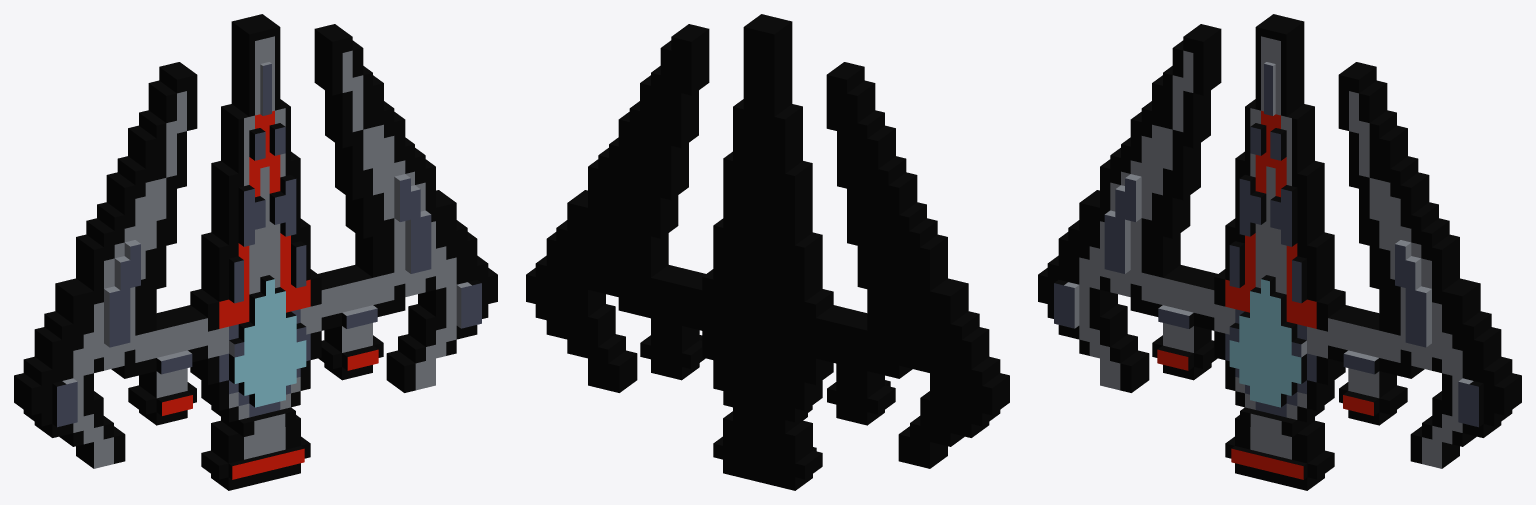
The model's file is NavePlayer1Skin1.fbx.
3 views of the same model, side by side, from view 1: azimuth 30°, elevation 25°; view 2: azimuth 150°, elevation 25°; view 3: azimuth 330°, elevation 25° (orthographic).
Visible parts, largest first — view 1: Cube.002; view 2: Cube.002; view 3: Cube.002.
Part boxes in pixels (x1,y1,x2,y2): Cube.002: (14,14,497,490); Cube.002: (526,14,1009,490); Cube.002: (1038,14,1521,490).
Size of the model in its own units: 149 by 138 by 13.05.
